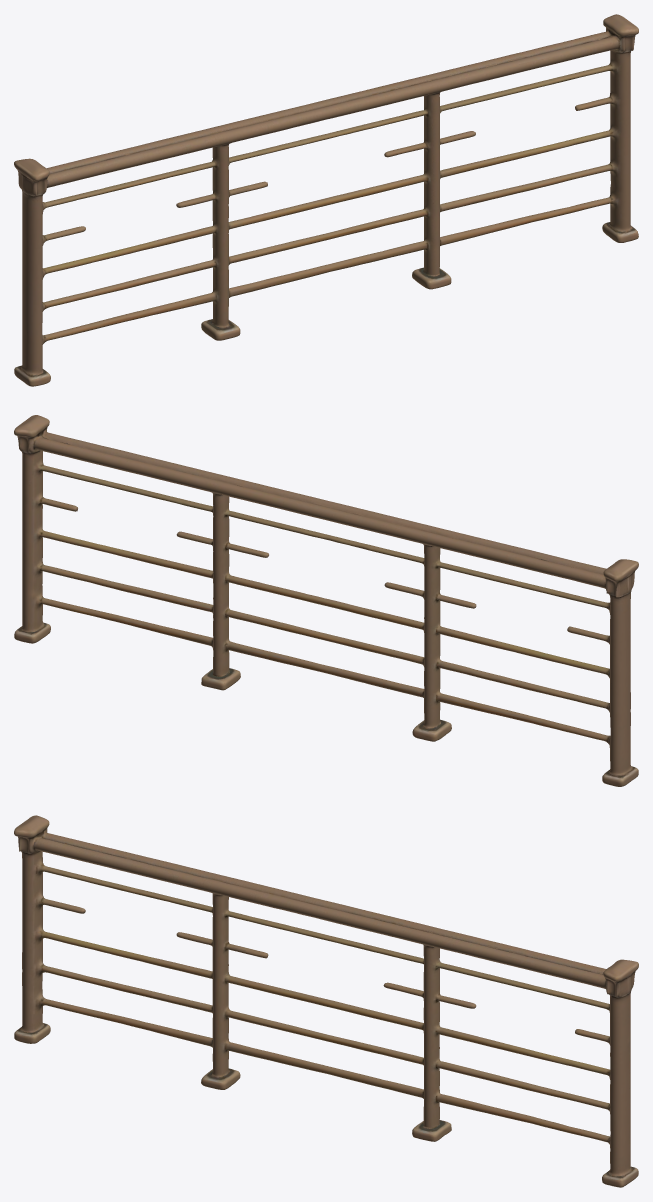
Rendered from railings_modern.glb.
3 views of the same model, one above another, from view 1: azimuth 30°, elevation 25°; view 2: azimuth 150°, elevation 25°; view 3: azimuth 330°, elevation 25° (orthographic).
Visible parts, largest first — view 1: tripo_node_a21881b7-63e2-4b92-b6af-c8f13e9d1b4a; view 2: tripo_node_a21881b7-63e2-4b92-b6af-c8f13e9d1b4a; view 3: tripo_node_a21881b7-63e2-4b92-b6af-c8f13e9d1b4a.
Part boxes in pixels (<box>): tripo_node_a21881b7-63e2-4b92-b6af-c8f13e9d1b4a: <box>14,14,638,386</box>; tripo_node_a21881b7-63e2-4b92-b6af-c8f13e9d1b4a: <box>14,415,638,786</box>; tripo_node_a21881b7-63e2-4b92-b6af-c8f13e9d1b4a: <box>14,815,638,1187</box>.
Size of the model in its own units: 0.9997 by 0.3384 by 0.0642.
1 material, 1 textured.
